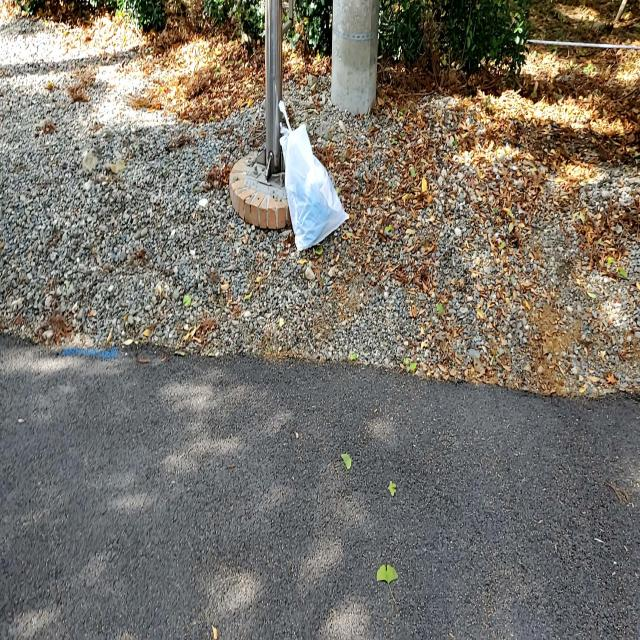garbage bag: (276, 98, 350, 252)
